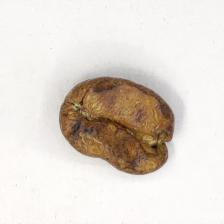NG: (65, 85, 170, 172)
